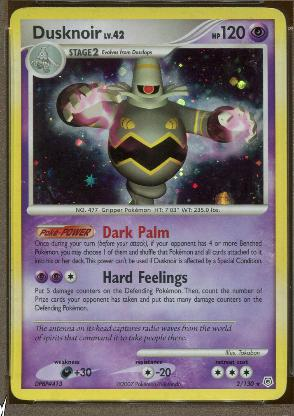Card: (6, 2, 288, 404)
